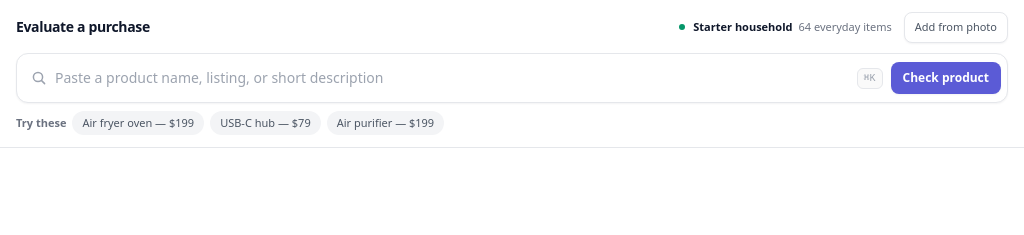
Subgraph frontend contract › renders an actionable error hint when an uncached evaluation cannot reach the API
Type "Uncached novelty product" into the text box named "What are you considering?" at (452, 78), box [55,60,848,96]
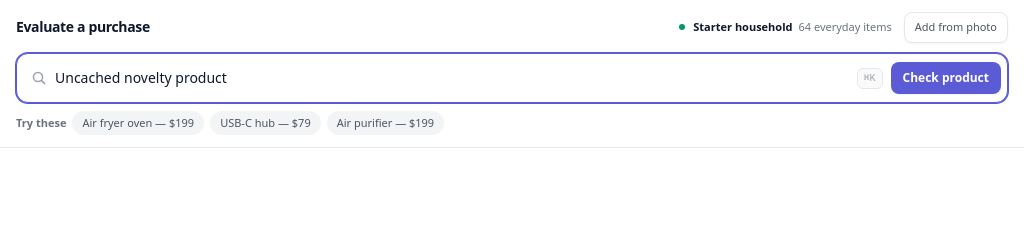
Click the button "Check product" at (946, 78), box [891,62,1001,94]
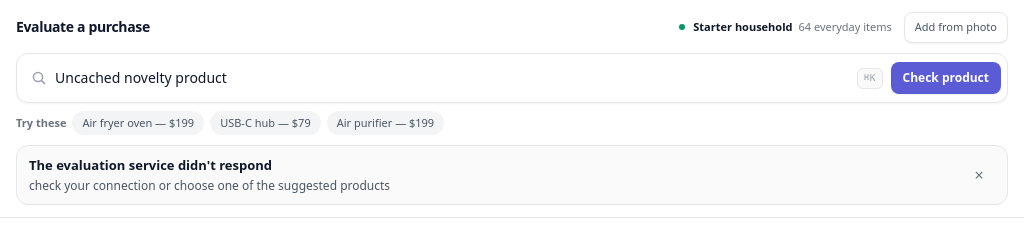
Check: the text "The evaluation service didn't respond" is shown, box [29,156,272,174]
Check: the text "check your connection or choose one of the suggested products" is shown, box [29,178,390,194]
